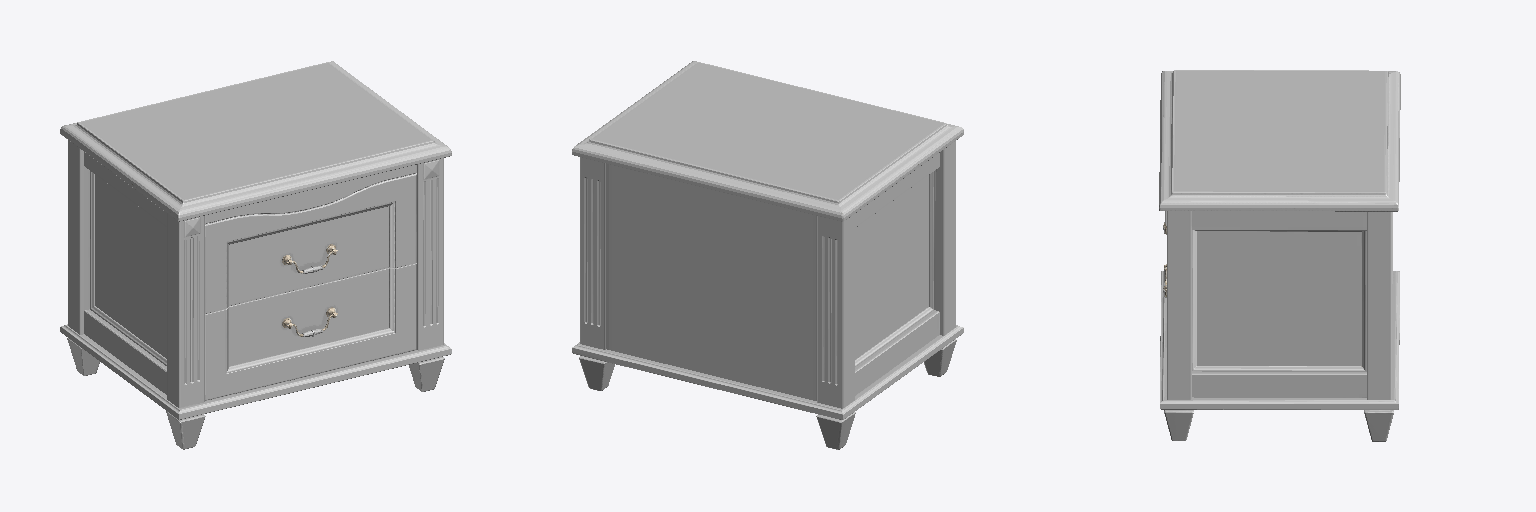
The picture shows the model from 3 angles: view 1: azimuth 30°, elevation 25°; view 2: azimuth 150°, elevation 25°; view 3: azimuth 270°, elevation 25°; orthographic projection.
Parts seen in each view (by area): view 1: solid_001; view 2: solid_001; view 3: solid_001.
Part boxes in pixels (bbox=[...]): solid_001: bbox=[60, 61, 451, 449]; solid_001: bbox=[572, 61, 963, 449]; solid_001: bbox=[1159, 70, 1400, 441].
Bounding box in the file's own units: 0.6329 × 0.55 × 0.4838.
Materials: 1 (1 with a texture image).